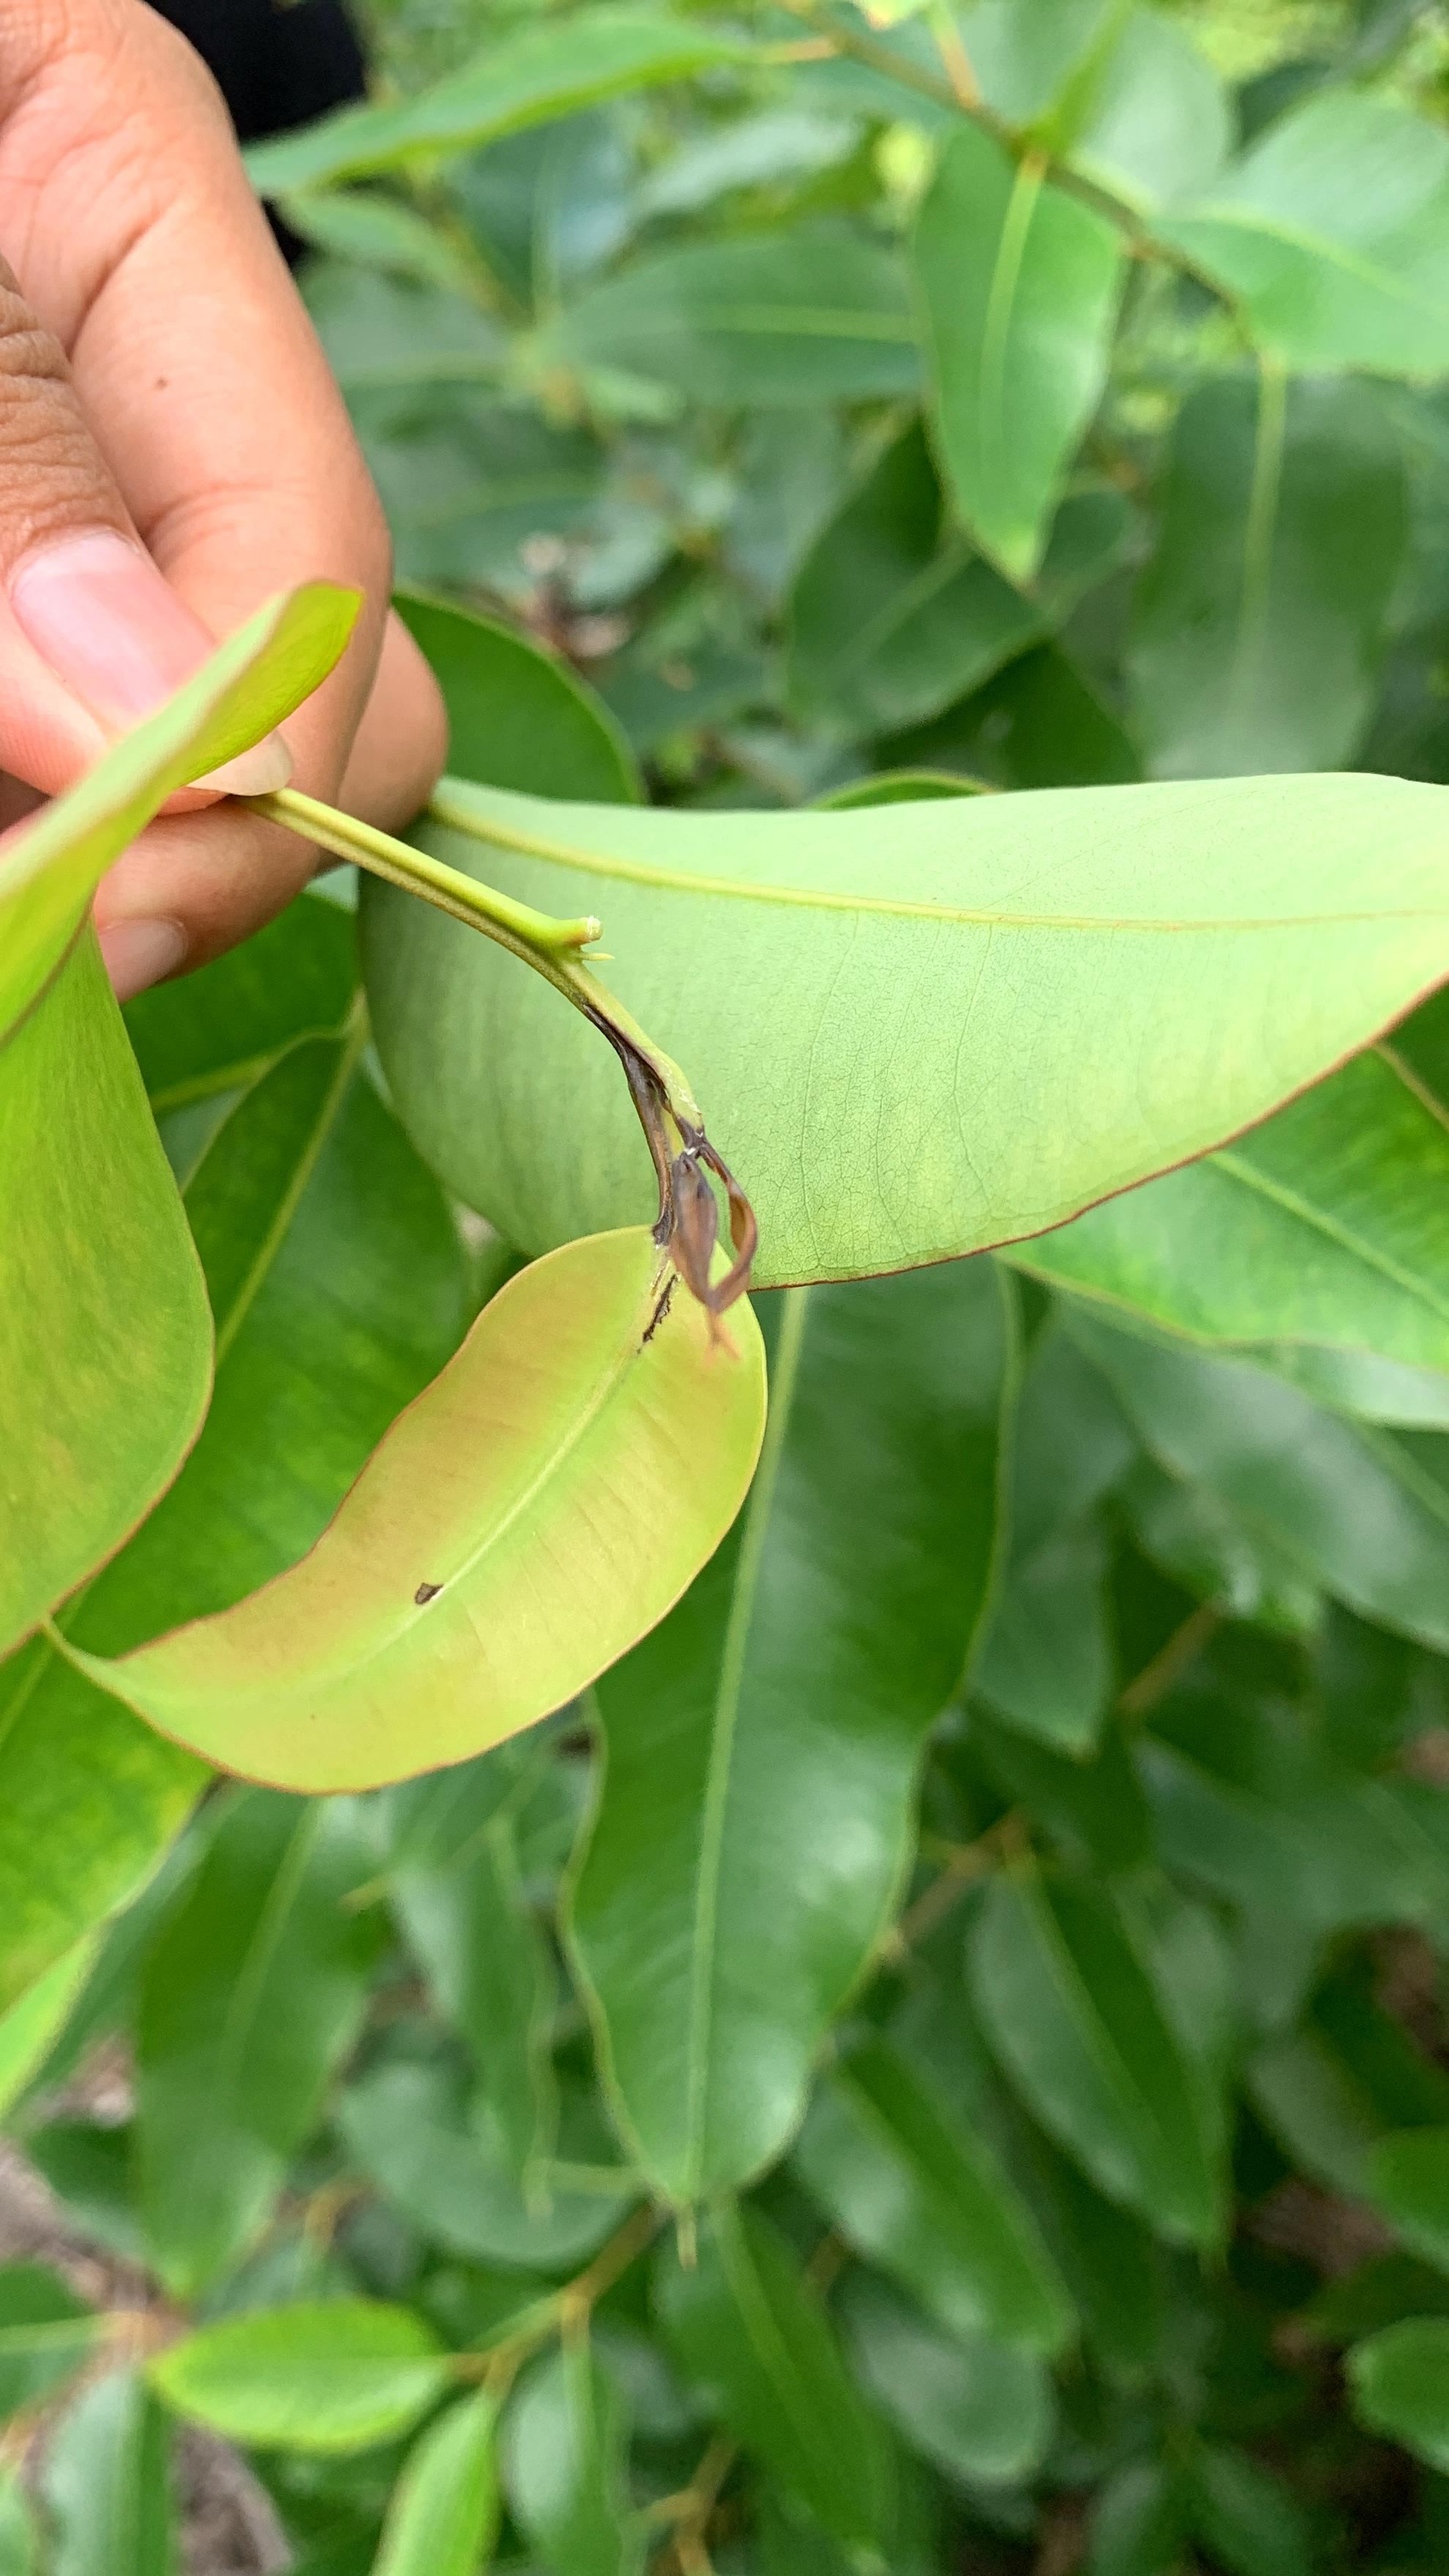Helopeltis-Withered Sprout: (619, 1106, 770, 1361)
